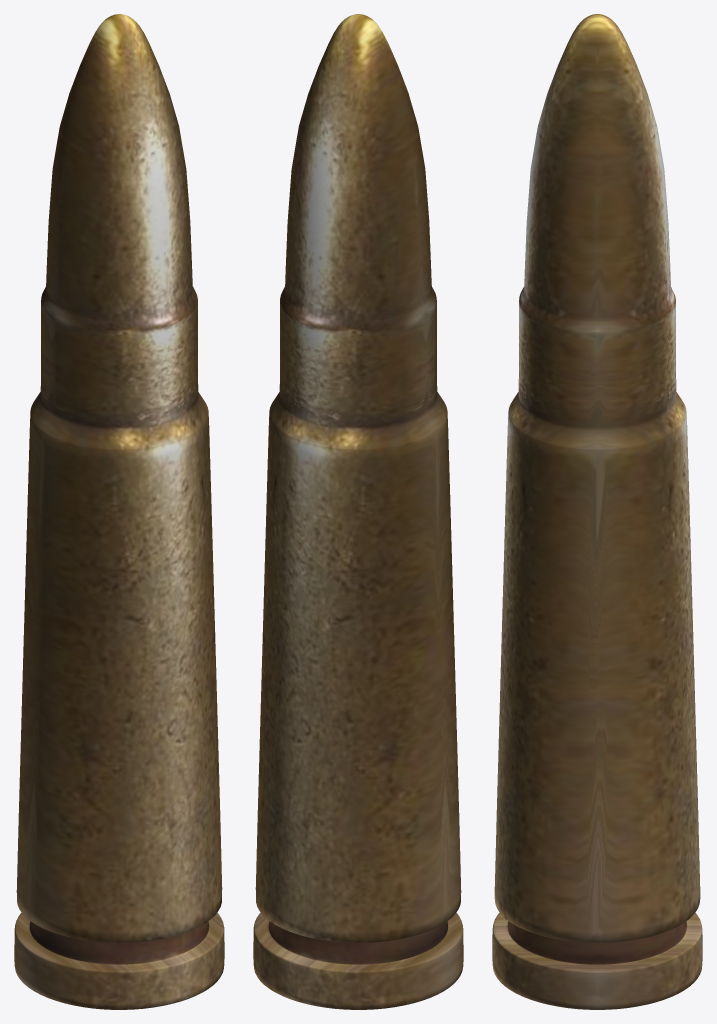
The model's file is realistic_ak-47_bullet_3d_model.glb.
3 renders of one model, left to right at view 1: azimuth 30°, elevation 25°; view 2: azimuth 150°, elevation 25°; view 3: azimuth 270°, elevation 25°, orthographic.
Visible parts, largest first — view 1: Cylinder_0; view 2: Cylinder_0; view 3: Cylinder_0.
Part boxes in pixels (x1,y1,x2,y2): Cylinder_0: (14,14,224,1009); Cylinder_0: (253,14,463,1009); Cylinder_0: (492,14,702,1009).
Bounding box in the file's own units: 0.9576 × 4.78 × 0.9576.
1 material, 1 textured.
